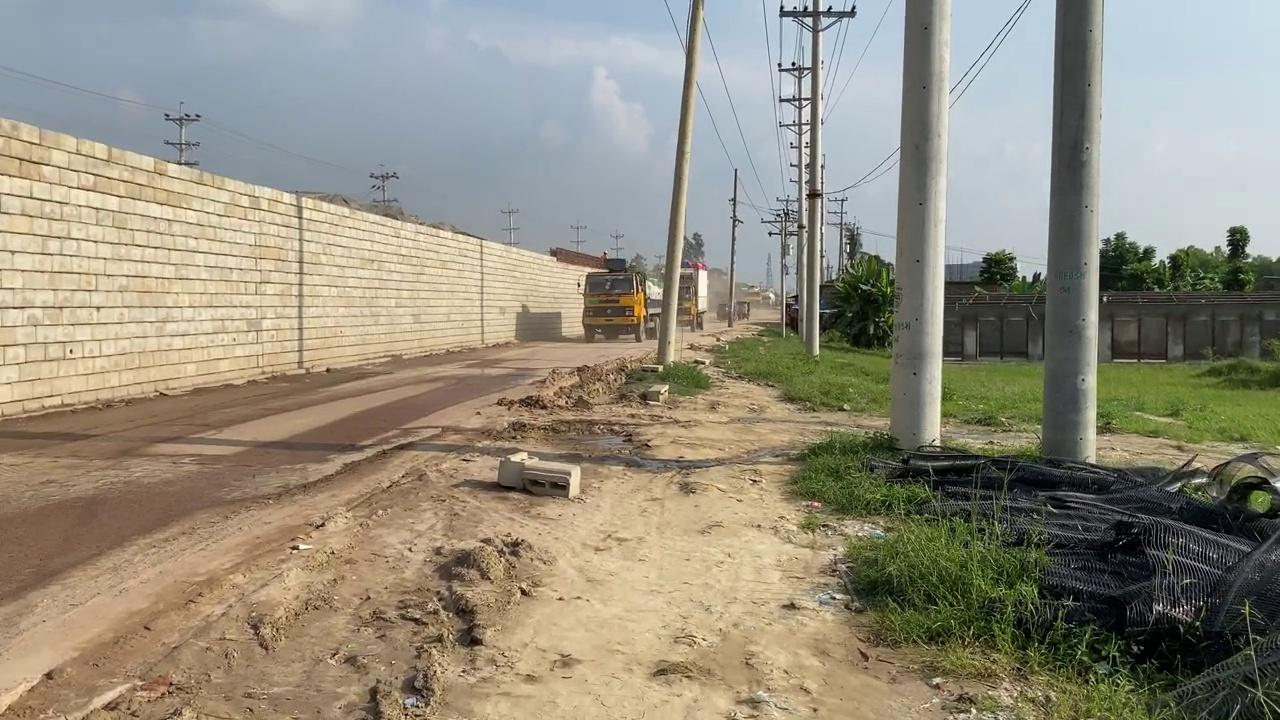Garbage: (999, 449, 1280, 654)
Obstacle: (496, 450, 581, 498), (644, 382, 669, 403)
Pole: (1039, 0, 1103, 463), (887, 0, 951, 452), (778, 0, 856, 357), (654, 0, 704, 368)
Rickshaw: (252, 310, 987, 718)
Traffic-sign: (977, 247, 1018, 289)
Tree: (576, 255, 650, 342), (646, 258, 708, 333), (676, 261, 708, 331)
Upstairs: (0, 115, 610, 419)
